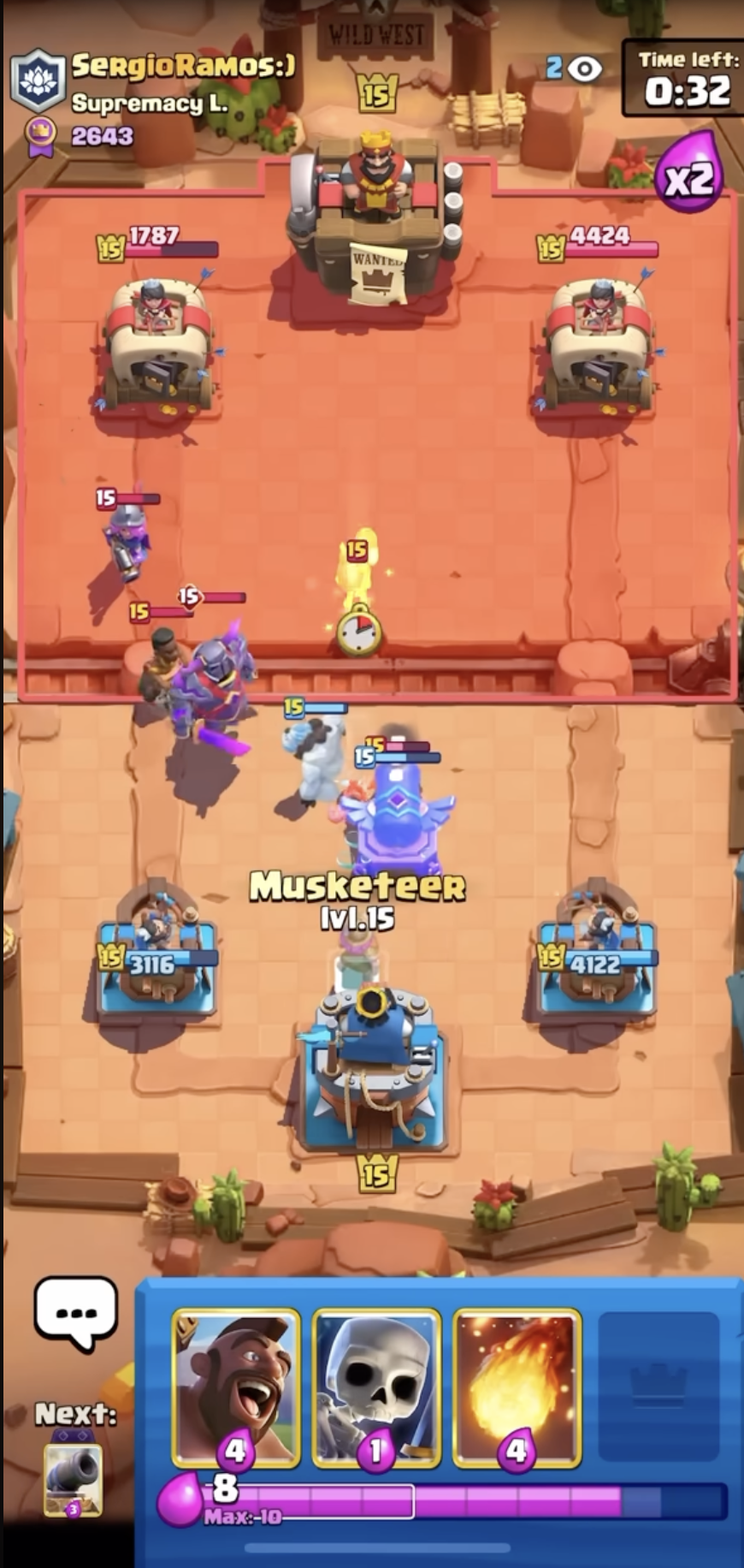evo-cannon: (339, 739, 454, 906)
ice-golem: (282, 679, 354, 823)
